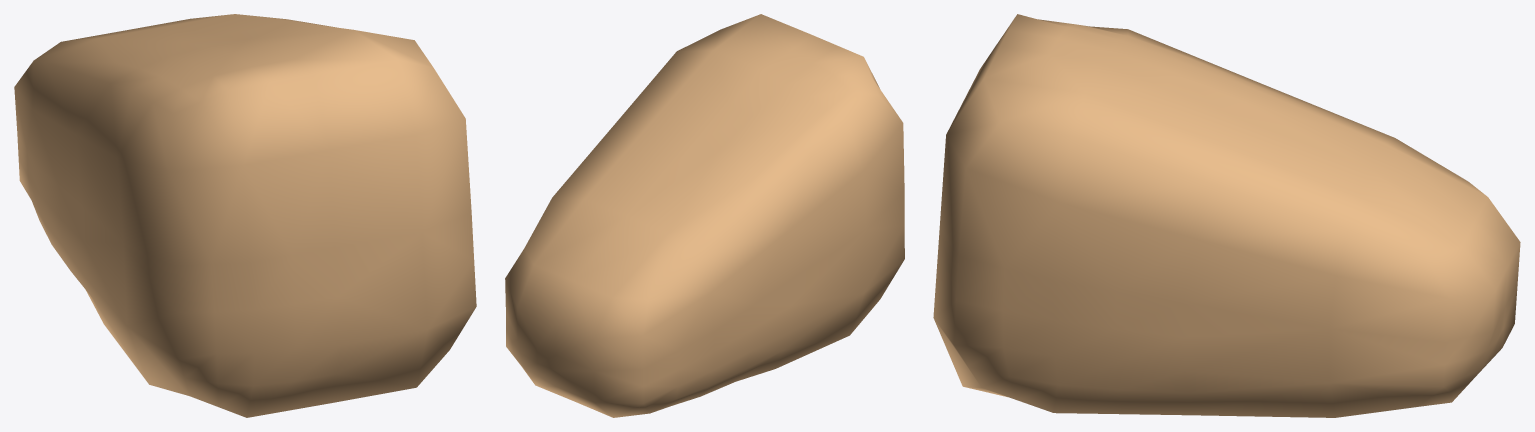
Rendered from ring_03_l.dae.
3 views of the same model, side by side, from view 1: azimuth 30°, elevation 25°; view 2: azimuth 150°, elevation 25°; view 3: azimuth 270°, elevation 25° (orthographic). The views are drawn at different scales.
Visible parts, largest first — view 1: skin_geo_ring_03_r; view 2: skin_geo_ring_03_r; view 3: skin_geo_ring_03_r.
Part boxes in pixels (left/top/right/bottom): skin_geo_ring_03_r: left=14, top=14, right=476, bottom=417; skin_geo_ring_03_r: left=505, top=14, right=904, bottom=417; skin_geo_ring_03_r: left=933, top=14, right=1520, bottom=417.
Size of the model in its own units: 0.0172 by 0.0299 by 0.0185.
